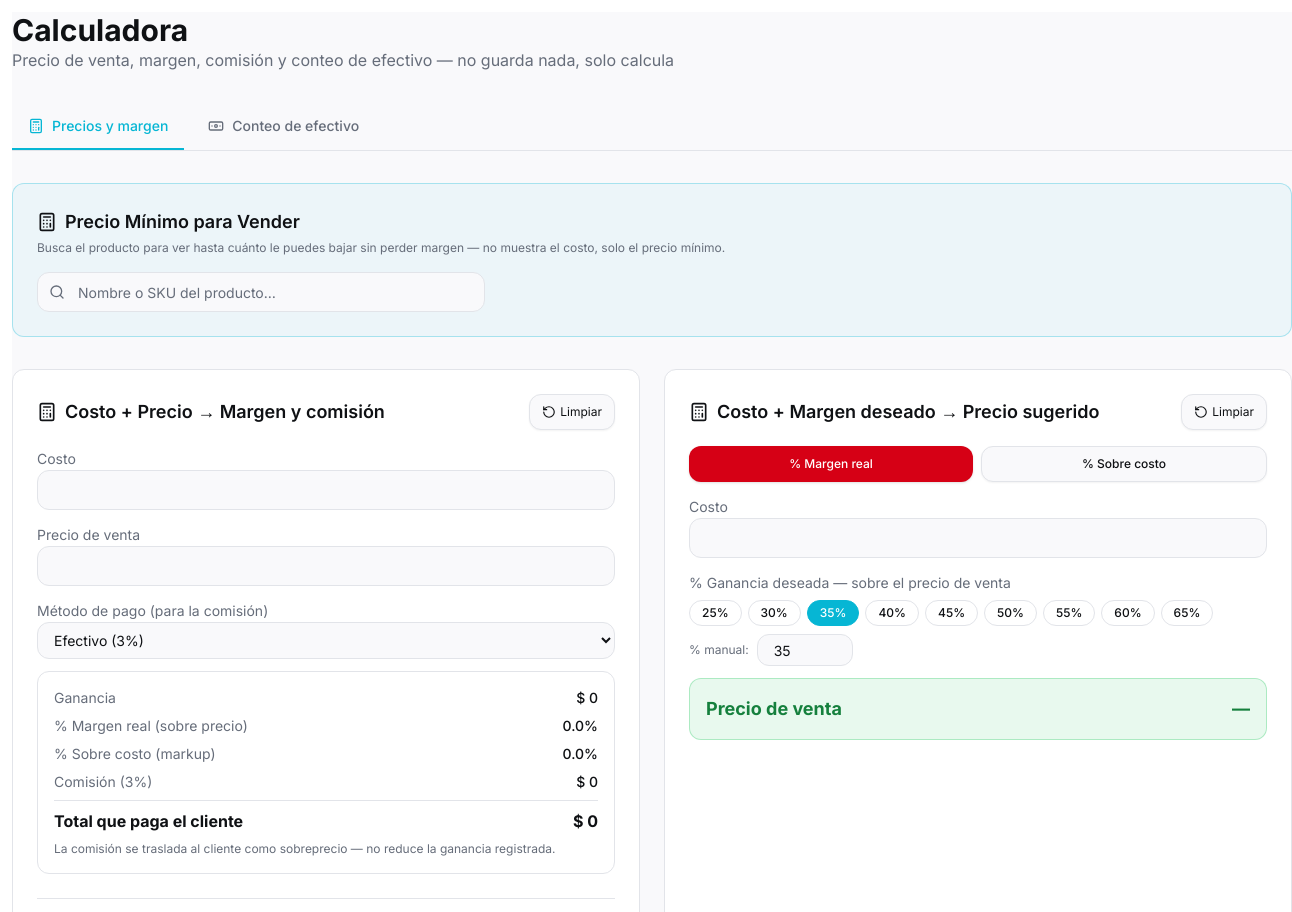
Calculadora — Costo + Precio → Margen y comisión › calcula ganancia, margen real y margen sobre costo desde costo + precio
Type "100000" into the 2nd field. click: (326, 490)
box: x1=37 y1=470 x2=615 y2=510
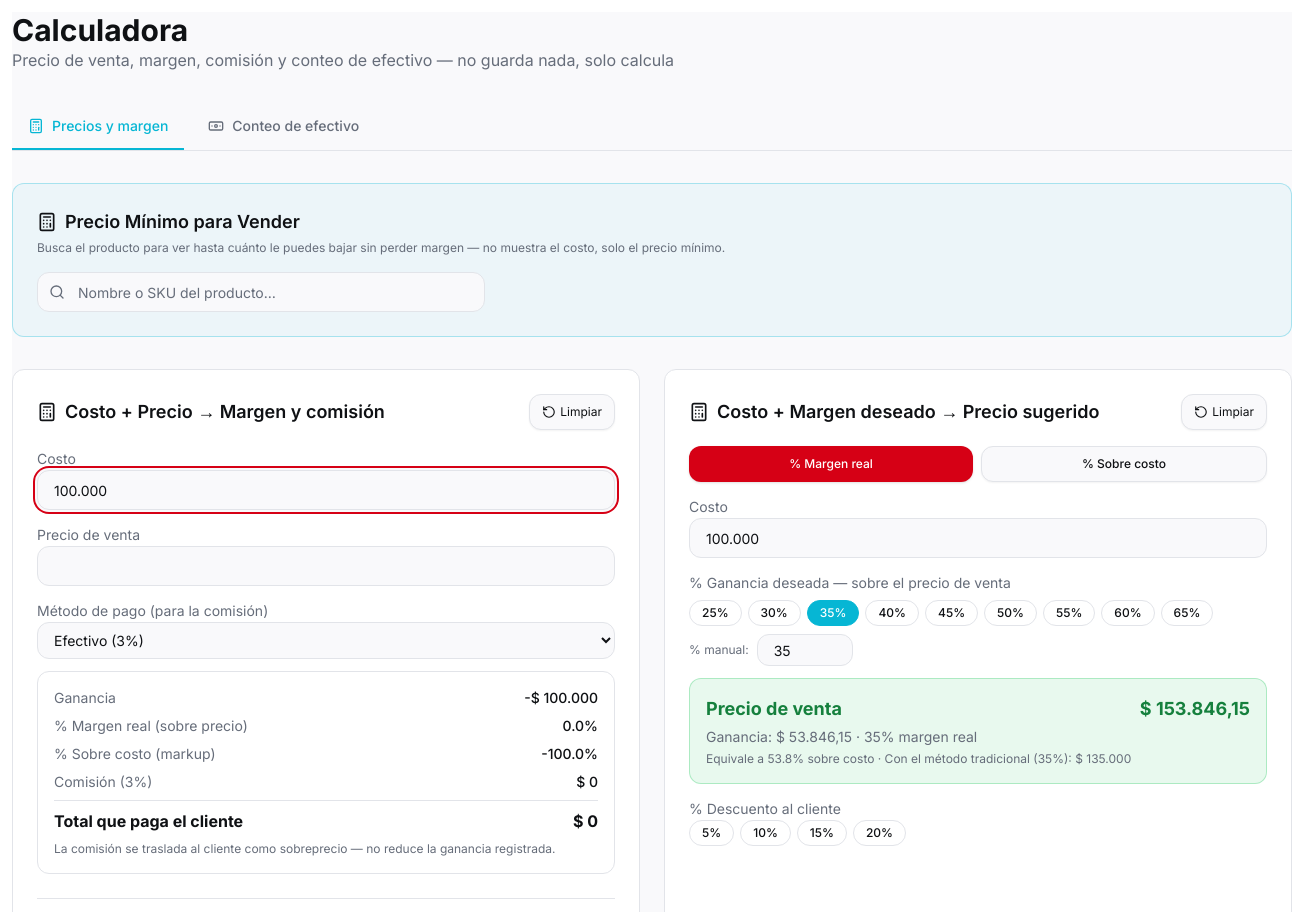
Type "150000" into the 4th field. click: (326, 566)
box: x1=37 y1=546 x2=615 y2=586
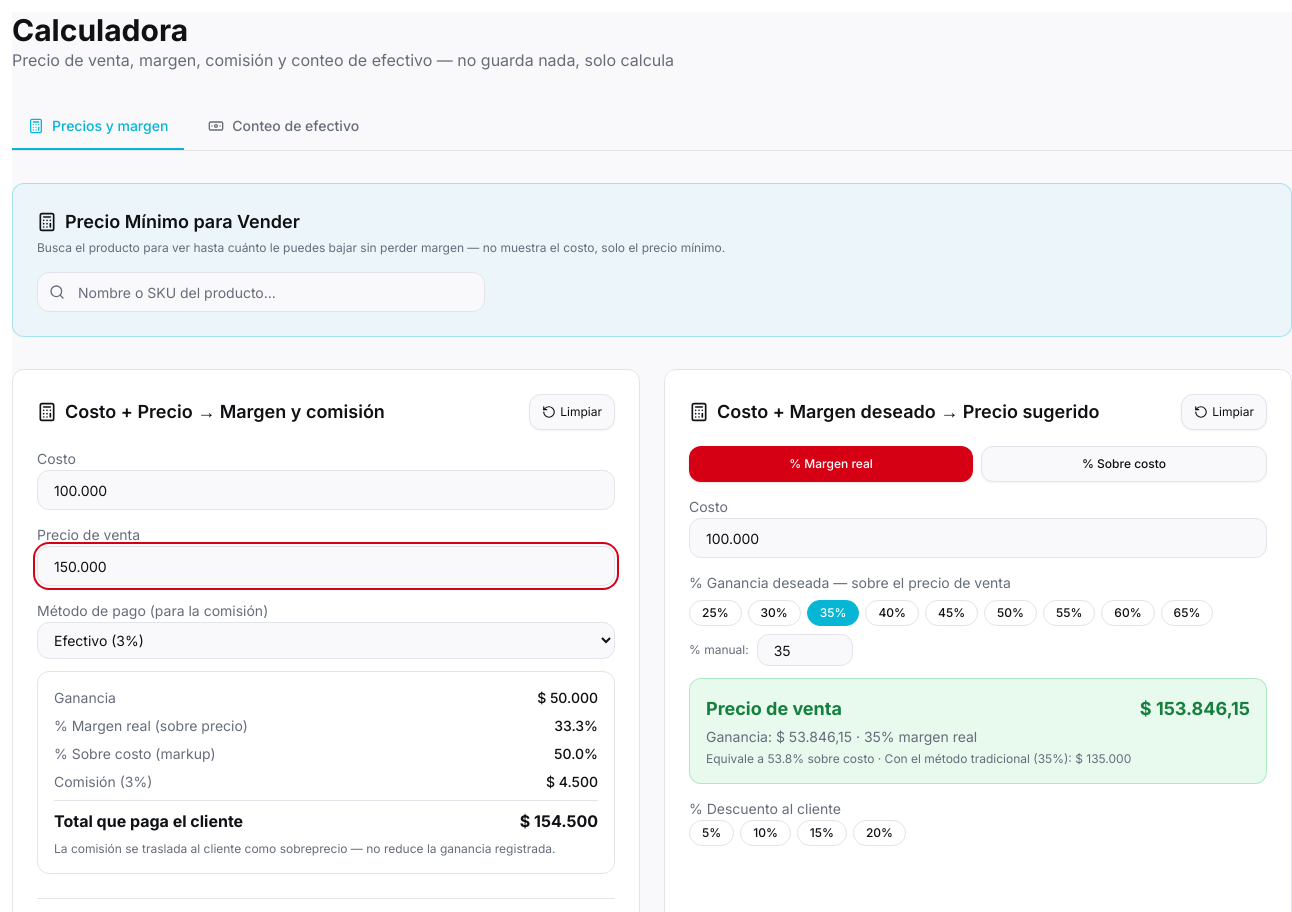
Check: the text "$ 50.000" is shown, box x1=537 y1=688 x2=598 y2=708
Check: the text "33.3%" is shown, box x1=554 y1=716 x2=598 y2=736
Check: the text "50.0%" is shown, box x1=554 y1=744 x2=598 y2=764
